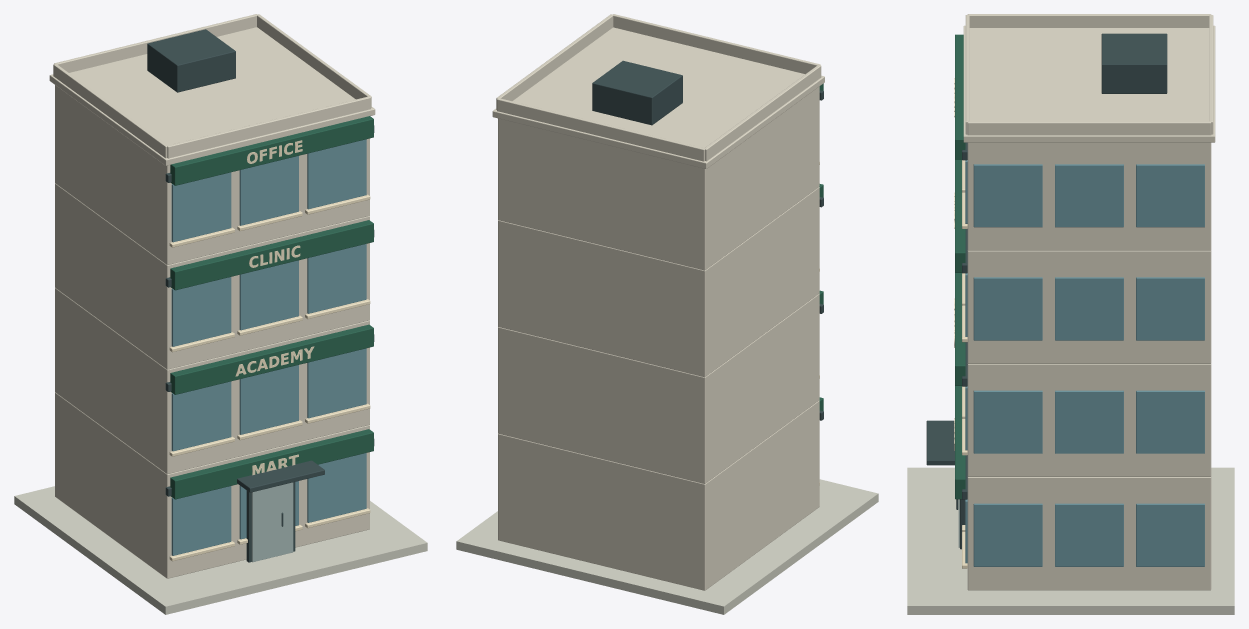
Rendered from medium-2x2-neighborhood-01.glb.
The picture shows the model from 3 angles, left to right: view 1: azimuth 30°, elevation 25°; view 2: azimuth 150°, elevation 25°; view 3: azimuth 270°, elevation 25°; orthographic projection. The views are drawn at different scales.
Parts seen in each view (by area): view 1: Storey_02, Storey_03, RoofCap, Storey_01, Storey_04, LotPlinth, TenantFascia.002, TenantFascia.001, TenantFascia.003, HVAC, TenantFascia, FrontWindow_01 (+19 smaller); view 2: Storey_01, Storey_03, Storey_02, Storey_04, RoofCap, LotPlinth, HVAC, RoofParapet.001, RoofParapet, RoofParapet.002, RoofParapet.003; view 3: RoofCap, LotPlinth, Storey_03, Storey_01, Storey_02, Storey_04, SideWindow_01, SideWindow_04, SideWindow_02, SideWindow_03, SideWindow_01.001, SideWindow_01.002 (+16 smaller).
Part boxes in pixels (<box>): Storey_02: <box>55,288,369,474</box>; Storey_03: <box>55,183,369,369</box>; RoofCap: <box>49,27,375,165</box>; Storey_01: <box>55,392,369,578</box>; Storey_04: <box>55,85,369,265</box>; LotPlinth: <box>14,486,427,614</box>; TenantFascia.002: <box>170,220,373,290</box>; TenantFascia.001: <box>170,324,373,394</box>; TenantFascia.003: <box>170,116,373,185</box>; HVAC: <box>147,29,235,92</box>; TenantFascia: <box>170,429,373,499</box>; FrontWindow_01: <box>171,486,231,555</box>; Storey_01: <box>498,400,819,590</box>; Storey_03: <box>498,187,819,377</box>; Storey_02: <box>498,293,819,483</box>; Storey_04: <box>498,86,819,270</box>; RoofCap: <box>492,27,824,168</box>; LotPlinth: <box>456,479,878,614</box>; HVAC: <box>592,60,682,125</box>; RoofParapet.001: <box>497,98,704,161</box>; RoofParapet: <box>613,14,820,74</box>; RoofParapet.002: <box>704,65,821,161</box>; RoofParapet.003: <box>496,14,613,109</box>; RoofCap: <box>963,25,1215,142</box>; LotPlinth: <box>907,467,1234,614</box>; Storey_03: <box>967,250,1211,363</box>; Storey_01: <box>967,477,1211,590</box>; Storey_02: <box>967,363,1211,476</box>; Storey_04: <box>967,142,1211,250</box>; SideWindow_01: <box>973,503,1042,566</box>; SideWindow_04: <box>973,164,1042,227</box>; SideWindow_02: <box>973,390,1042,453</box>; SideWindow_03: <box>973,277,1042,340</box>; SideWindow_01.001: <box>1055,503,1123,566</box>; SideWindow_01.002: <box>1136,503,1204,566</box>.
Bounding box in the file's own units: 8 × 13.39 × 8.
